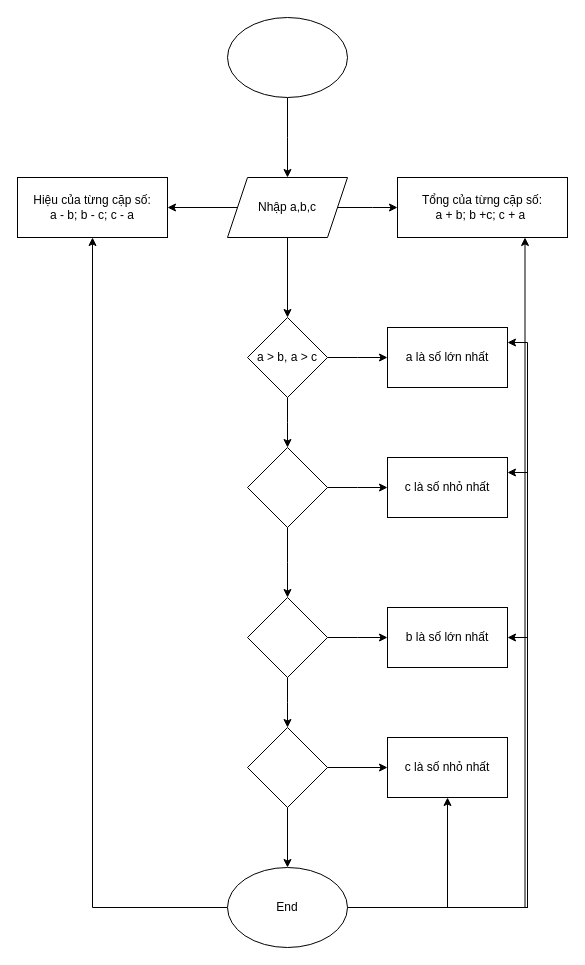
Image size: 585x965. Some labels were removed from this diagram. Each missing label, with the box of its shape:
a > c: (246, 726, 328, 808)
b > a, b > c: (246, 596, 328, 678)
b > c: (246, 446, 328, 528)
start: (226, 16, 348, 98)
